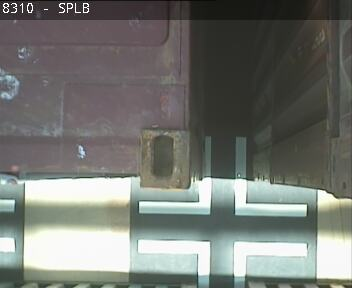groundmarker_1: (138, 137, 307, 215), (137, 238, 307, 288)
